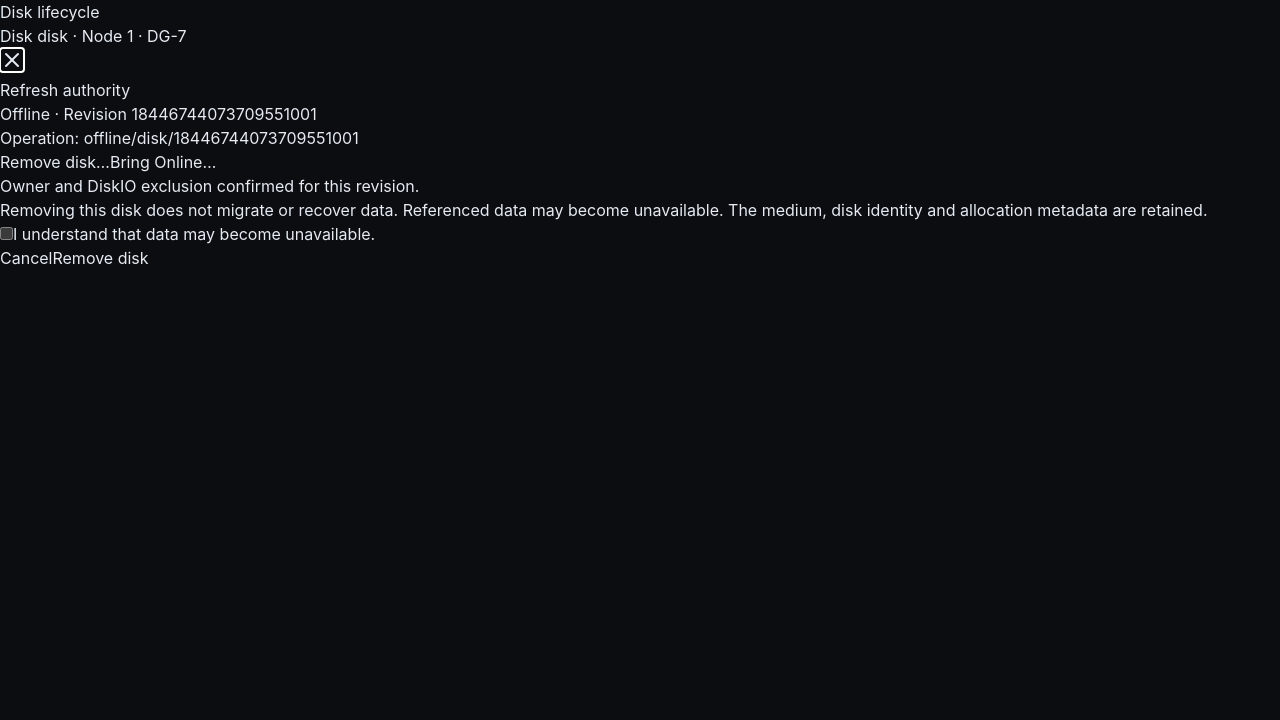
Test: reconciles lost Online acceptance without issuing a second request
Expected: the text "Owner and DiskIO exclusion confirmed for this revision." is shown, x1=0 y1=176 x2=419 y2=196
Click the button "Bring Online…" at [163, 162], box x1=110 y1=150 x2=216 y2=174
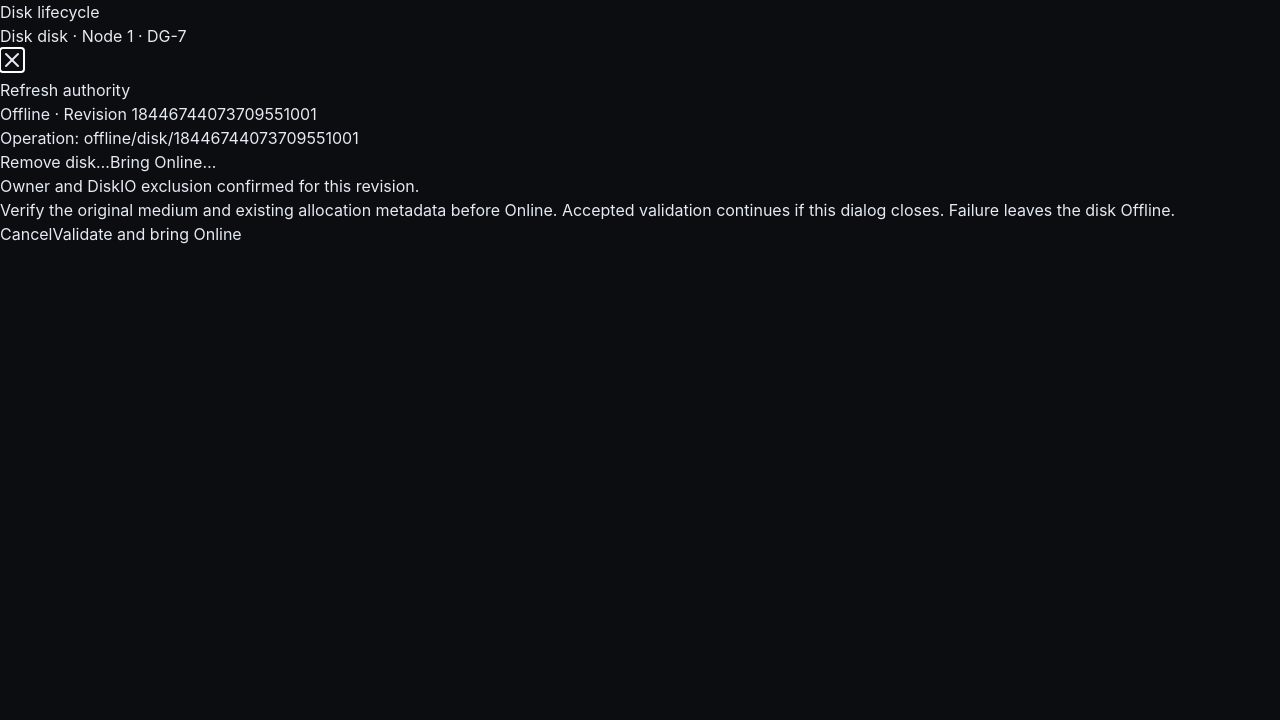
Click the button "Validate and bring Online" at [147, 234], box x1=52 y1=222 x2=242 y2=246
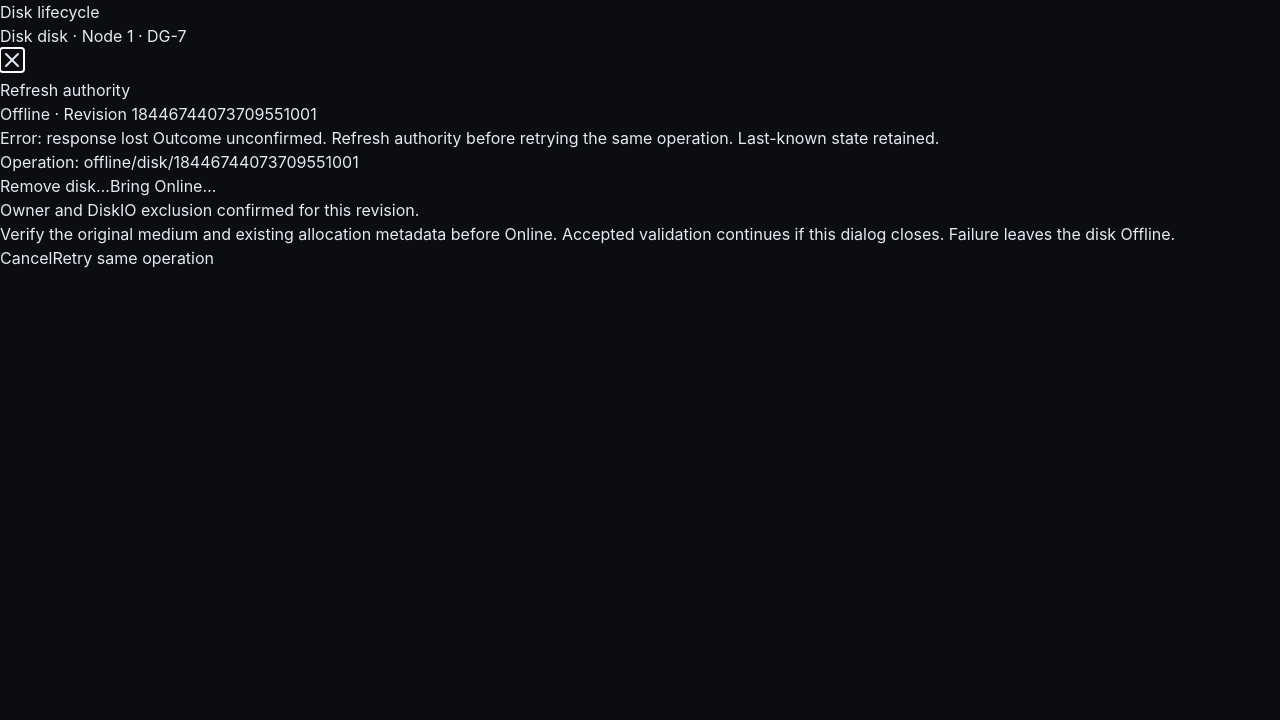
Now the 2nd message is shown, box x1=0 y1=128 x2=939 y2=148
Now the button "Retry same operation" is disabled, box x1=52 y1=246 x2=214 y2=270
Click the button "Refresh authority" at [65, 90], box x1=0 y1=78 x2=130 y2=102
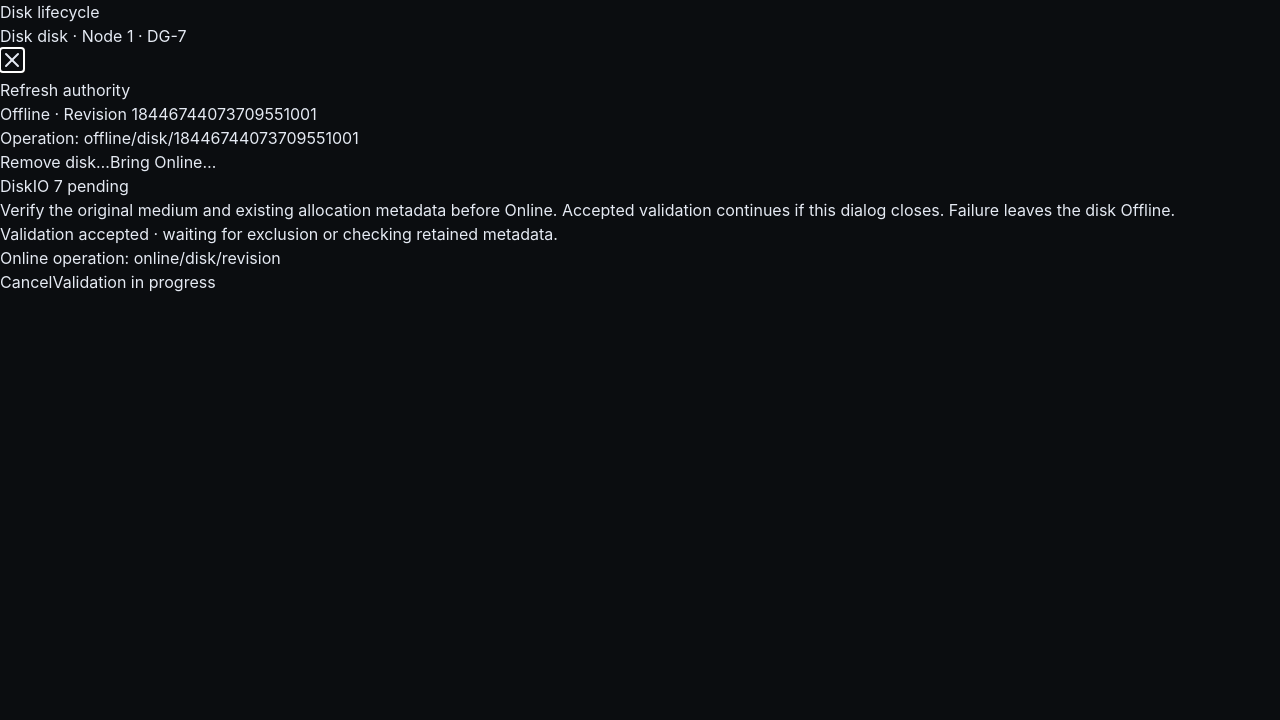
Now the text "Validation accepted · waiting for exclusion or checking retained metadata." is shown, box x1=0 y1=224 x2=558 y2=244
